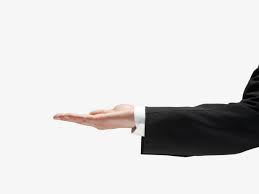pointing_gesture: (53, 103, 135, 134)
